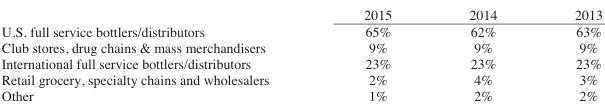table: (0, 1, 601, 106)
table column: (0, 1, 315, 106), (315, 1, 429, 106), (429, 1, 535, 106), (535, 1, 601, 106)
table column header: (0, 1, 601, 21)
table row: (0, 1, 601, 21), (0, 86, 601, 106), (0, 21, 601, 38), (0, 38, 601, 54), (0, 54, 601, 70), (0, 70, 601, 86)
